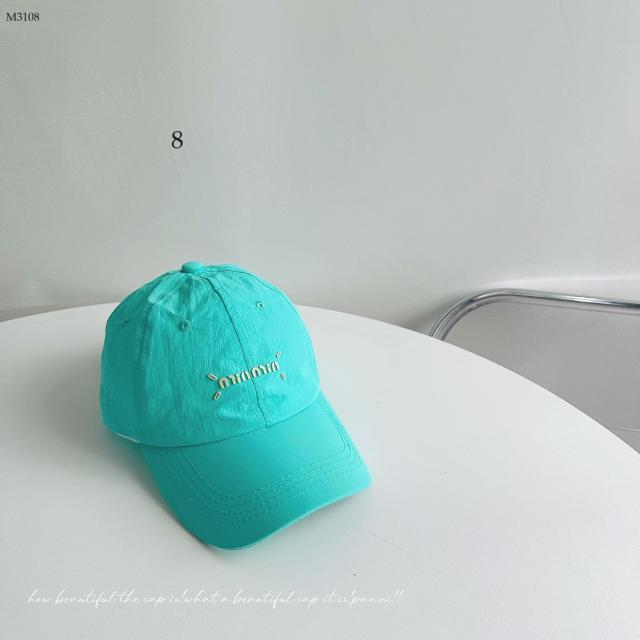no_helmet: (95, 254, 386, 557)
